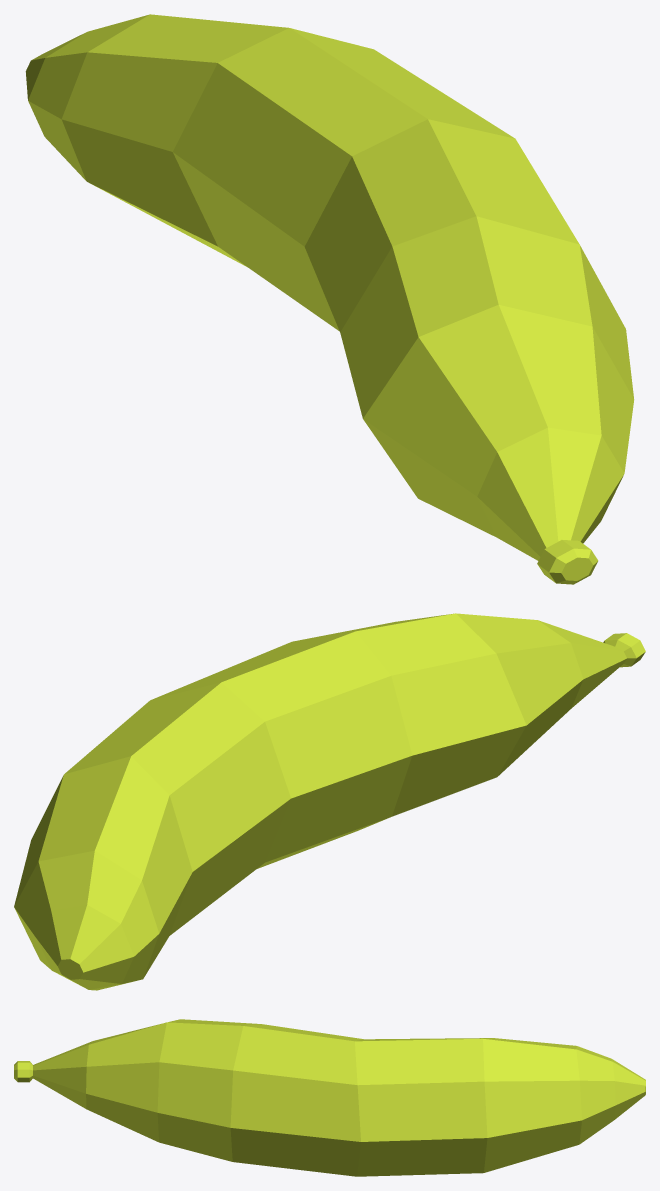
Rendered from fruit03.fbx.
The picture shows the model from 3 angles, top to bottom: view 1: azimuth 30°, elevation 25°; view 2: azimuth 150°, elevation 25°; view 3: azimuth 270°, elevation 25°; orthographic projection. The views are drawn at different scales.
Parts seen in each view (by area): view 1: Cylinder.002; view 2: Cylinder.002; view 3: Cylinder.002.
Part boxes in pixels (box(x1,y1,x2,y2)): Cylinder.002: box(25, 14, 634, 584); Cylinder.002: box(14, 613, 645, 990); Cylinder.002: box(14, 1019, 645, 1176).
Size of the model in its own units: 0.0722 by 0.0494 by 0.2176.
